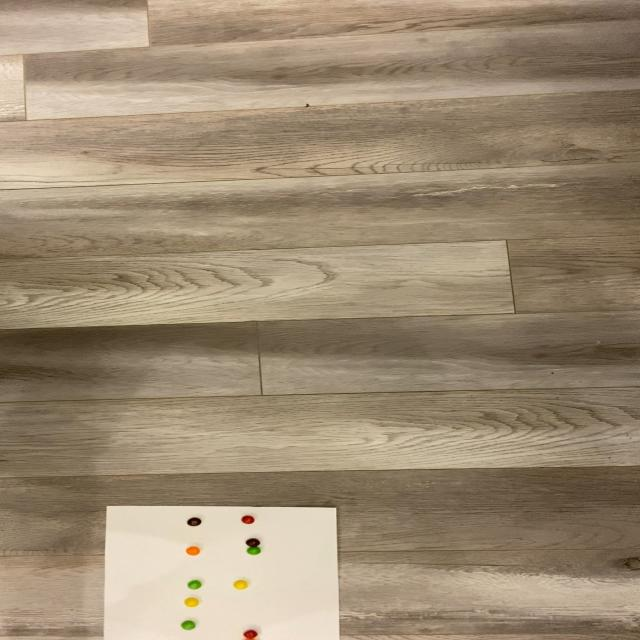smartie: (184, 598, 200, 608), (240, 514, 255, 524), (232, 581, 248, 590), (242, 631, 258, 640), (186, 546, 200, 556), (246, 547, 261, 556), (180, 621, 196, 629), (245, 539, 259, 548), (187, 580, 201, 589), (187, 519, 201, 527)
